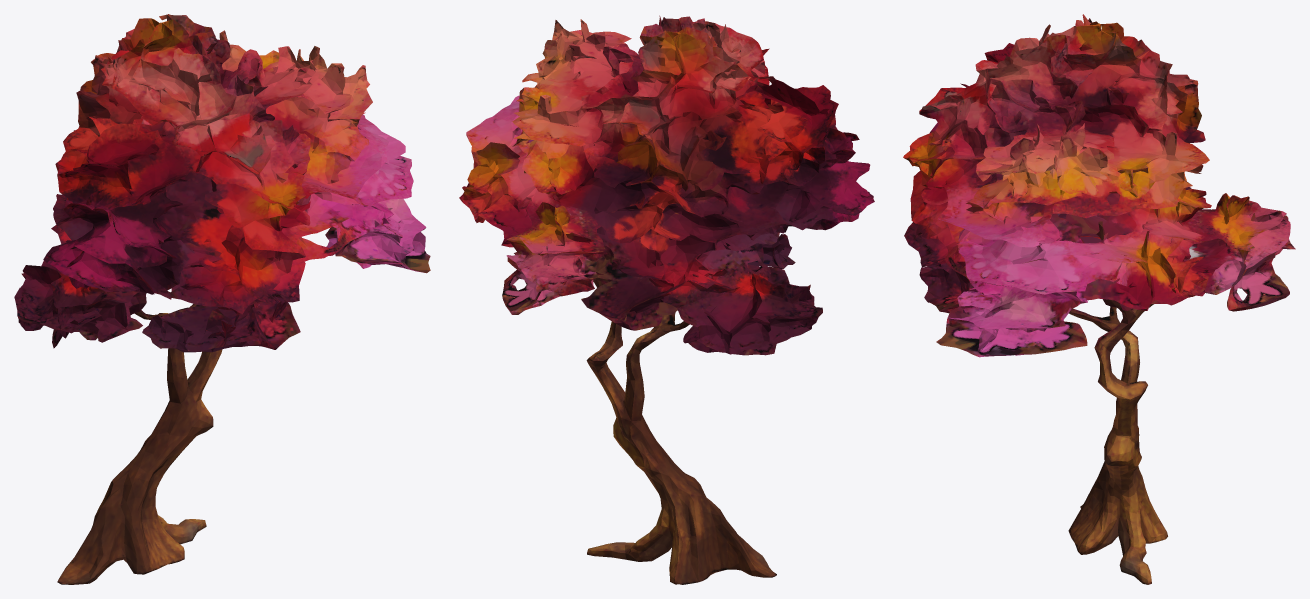
The model's file is arbol_otono.glb.
3 views of the same model, side by side, from view 1: azimuth 30°, elevation 25°; view 2: azimuth 150°, elevation 25°; view 3: azimuth 270°, elevation 25° (orthographic). The views are drawn at different scales.
Parts seen in each view (by area): view 1: world; view 2: world; view 3: world.
Boxes of the visible parts, x1,y1,x2,y2 form: world: (14,14,430,584); world: (459,15,874,584); world: (903,14,1295,584).
Size of the model in its own units: 0.723 by 1 by 0.6743.
1 material, 1 textured.
